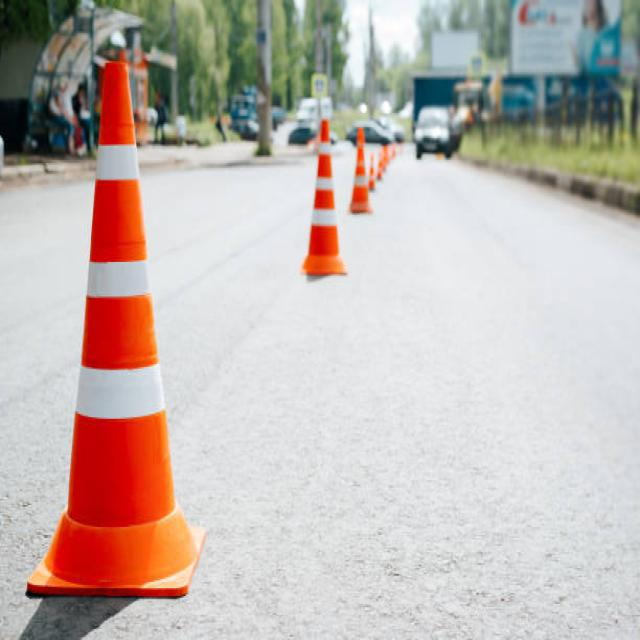Traffic Cone: (11, 30, 224, 624), (274, 105, 365, 291)
